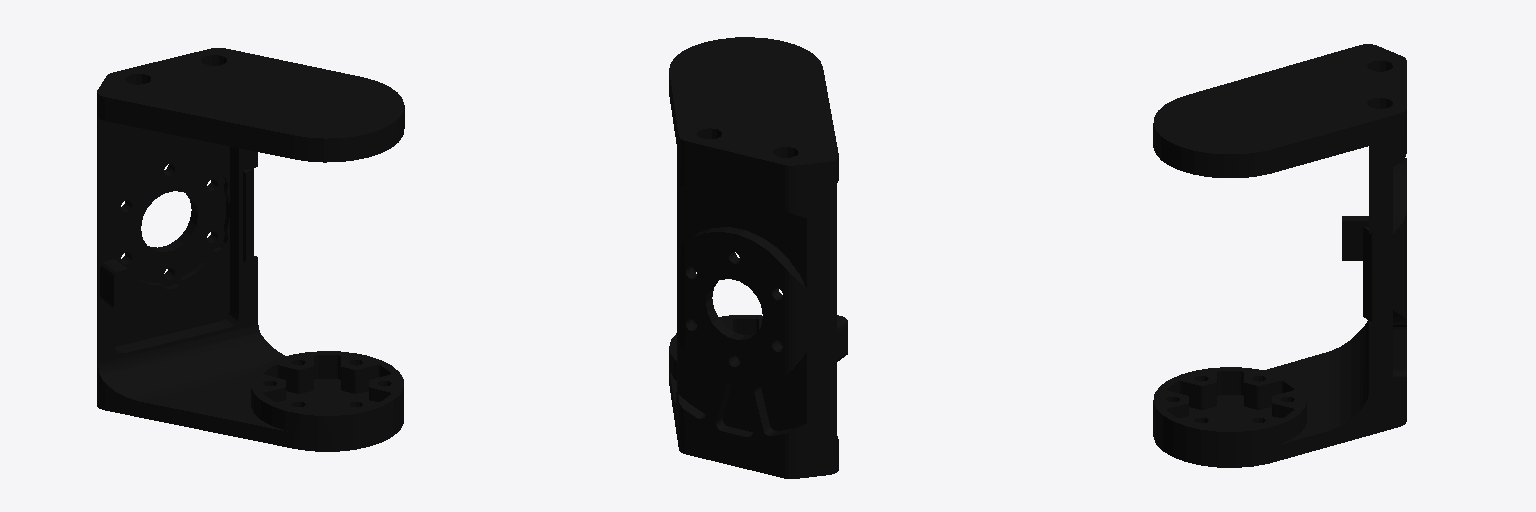
3 renders of one model, left to right at view 1: azimuth 30°, elevation 25°; view 2: azimuth 150°, elevation 25°; view 3: azimuth 270°, elevation 25°, orthographic.
Parts seen in each view (by area): view 1: link1; view 2: link1; view 3: link1.
Boxes of the visible parts, <box> form: link1: <box>97,48,404,451</box>; link1: <box>669,37,847,478</box>; link1: <box>1153,44,1406,467</box>.
Size of the model in its own units: 0.0594 by 0.0785 by 0.0575.